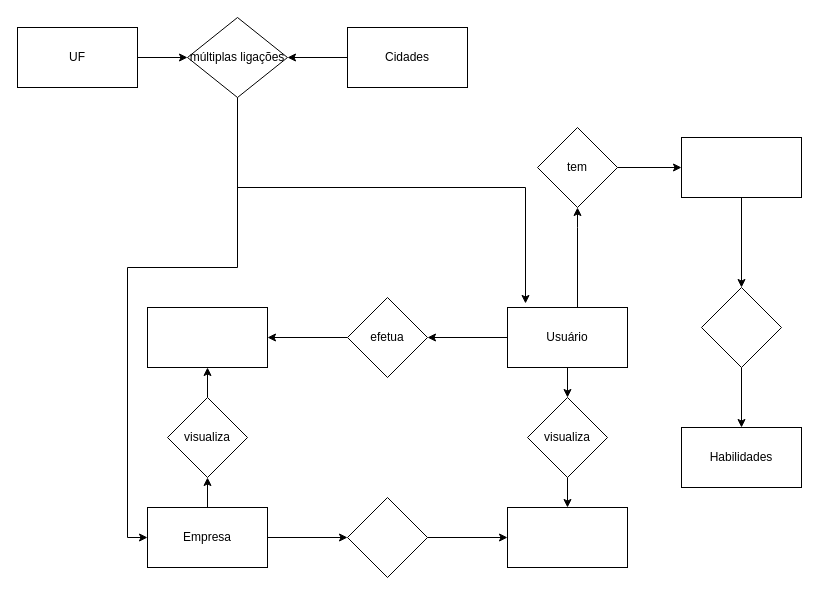
This 819x595 diagram has some shape labels left out. Here are the shapes that lost their labels. From the top down, the centre of each, then its label:
At point (741, 167): "HabiliUsuario".
At point (207, 337): "Candidatura".
At point (741, 327): "armazenadas".
At point (387, 537): "posta".
At point (567, 537): "Vagas".
